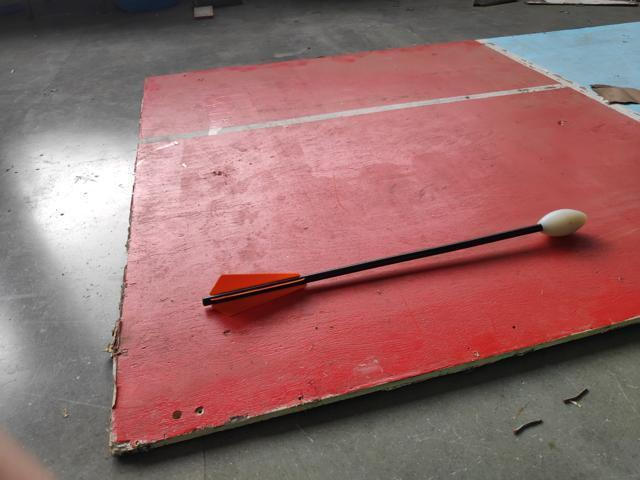Head: (536, 203, 590, 241)
Tail: (200, 269, 309, 309)
